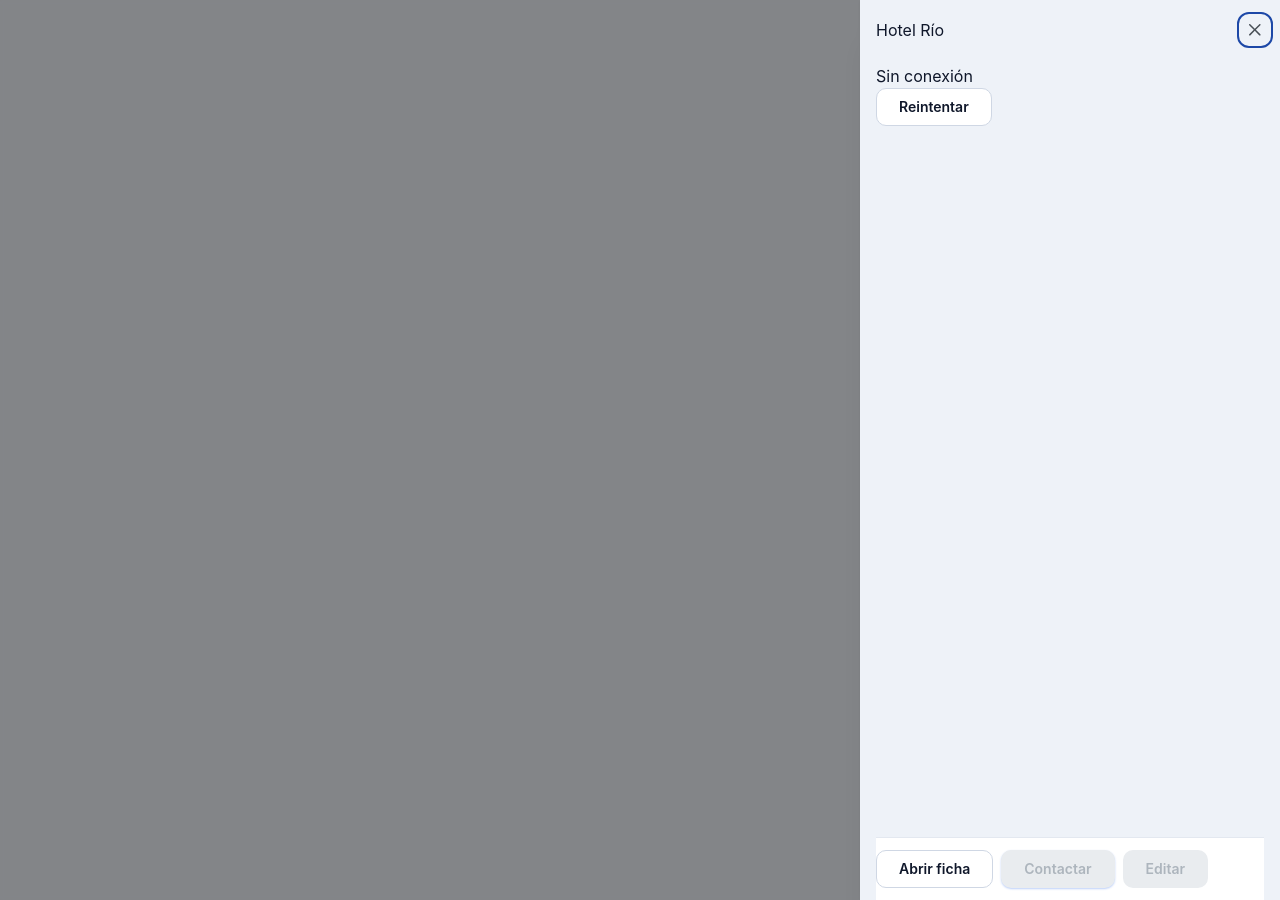
it: BusinessPreviewDrawer › offers Reintentar after an error and fetches again
Click the button "Reintentar".
click(934, 107)  # box [876, 88, 992, 126]
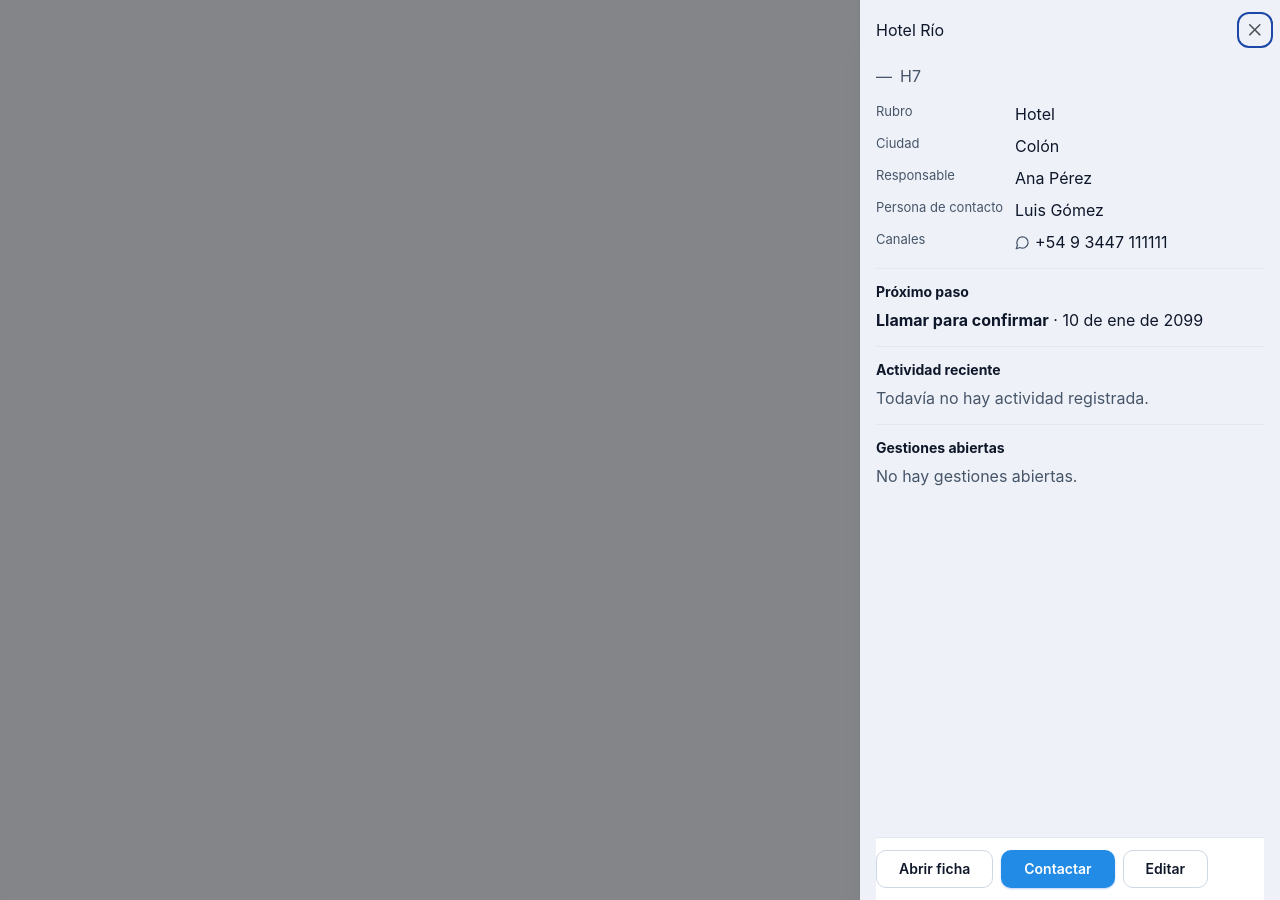
Result: the text "H7" is shown at [900, 64, 921, 88]
